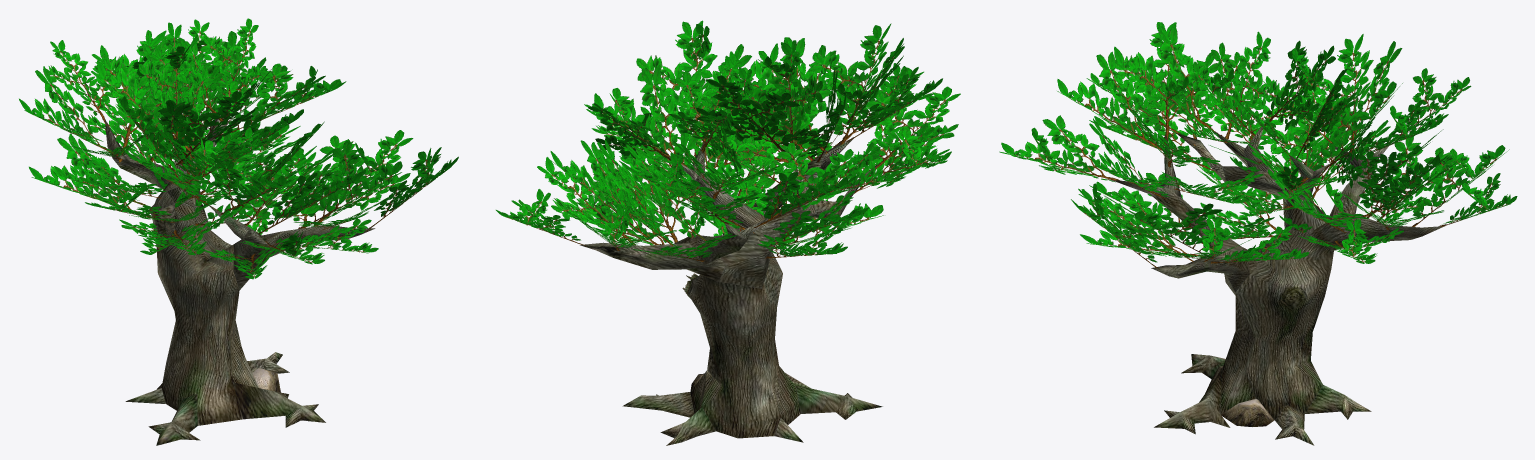
File: SM_JKMOak.fbx
3 views of the same model, side by side, from view 1: azimuth 30°, elevation 25°; view 2: azimuth 150°, elevation 25°; view 3: azimuth 270°, elevation 25° (orthographic). The views are drawn at different scales.
Visible parts, largest first — view 1: oak; view 2: oak; view 3: oak.
Part boxes in pixels (<box>): oak: <box>19,18,458,445</box>; oak: <box>496,20,960,445</box>; oak: <box>999,22,1517,445</box>.
Bounding box in the file's own units: 21206 × 20683 × 28159.
Materials: 2 (2 with a texture image).
